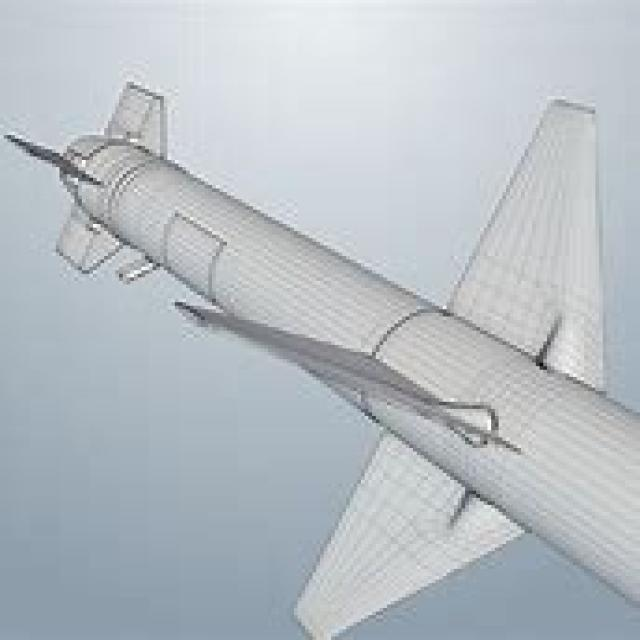missile: (10, 79, 637, 637)
